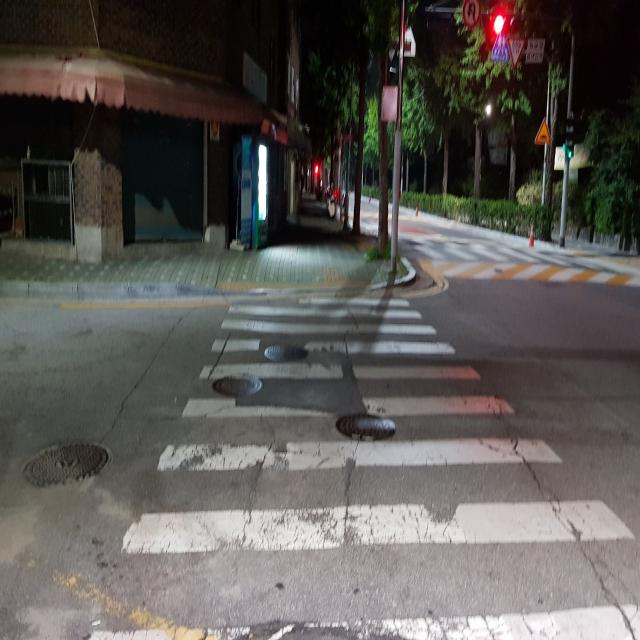횡단보도: (89, 297, 640, 639), (407, 232, 640, 275)
